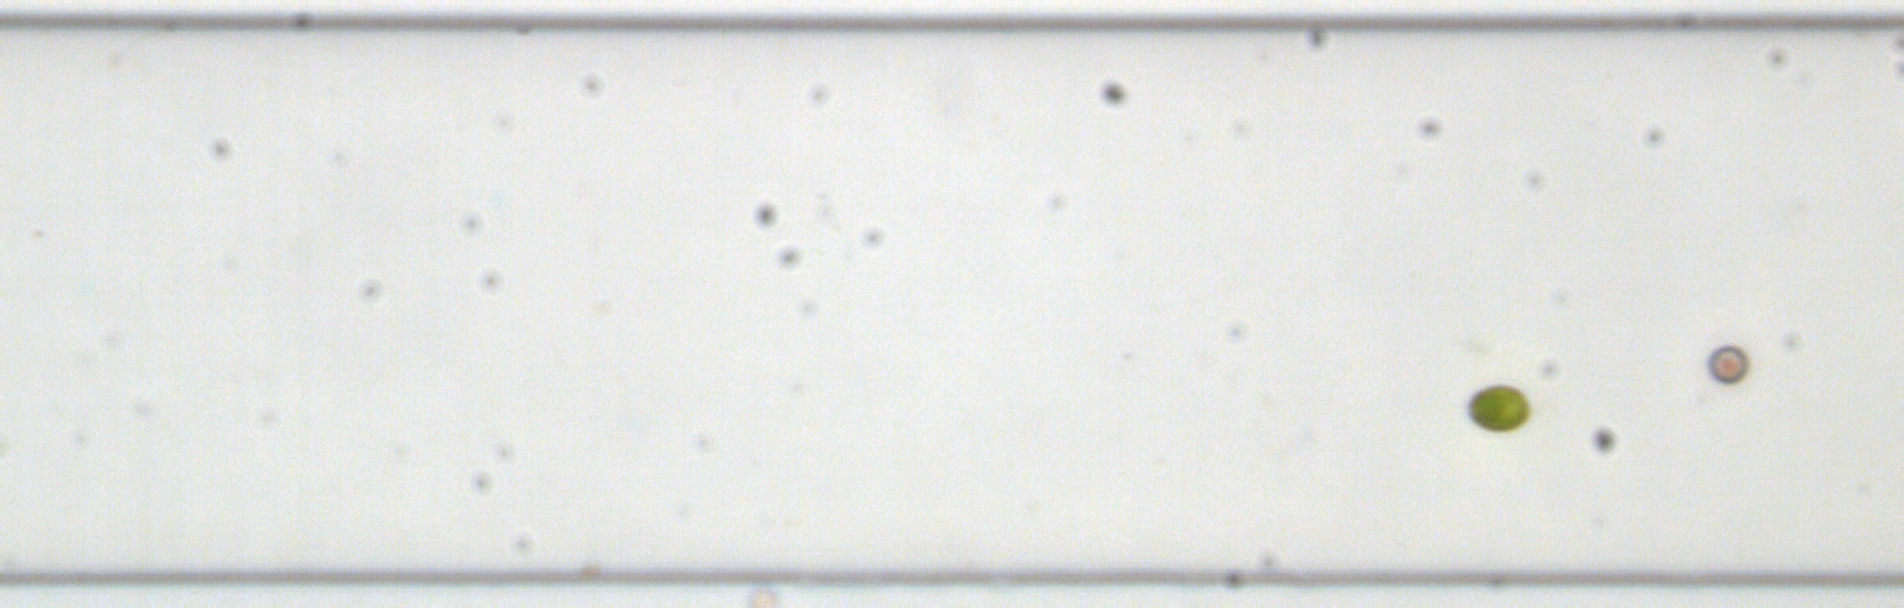Platymonas: (1463, 379, 1530, 434)
Porphyridium: (1702, 343, 1749, 386)
